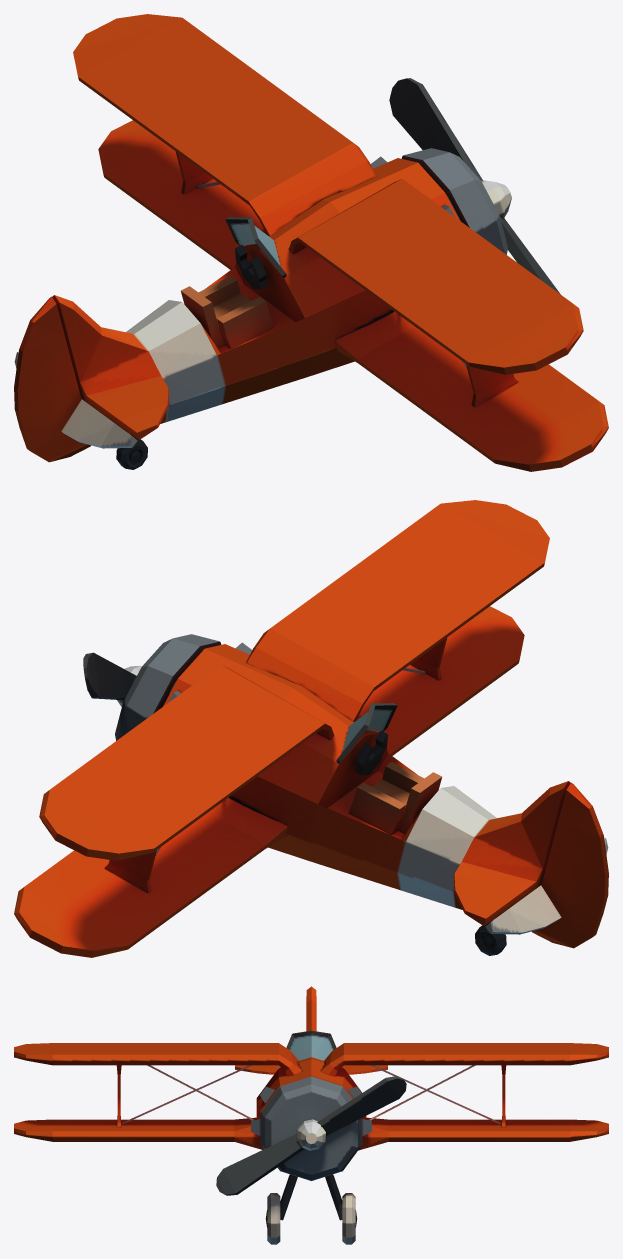
3 views of the same model, one above another, from view 1: azimuth 30°, elevation 25°; view 2: azimuth 150°, elevation 25°; view 3: azimuth 270°, elevation 25° (orthographic). The views are drawn at different scales.
Visible parts, largest first — view 1: node-0; view 2: node-0; view 3: node-0.
Part boxes in pixels (left/top/right/bottom): node-0: left=14, top=14, right=608, bottom=471; node-0: left=14, top=500, right=608, bottom=957; node-0: left=14, top=986, right=608, bottom=1244.
Size of the model in its own units: 2.43 by 1.21 by 3.78.
1 material, 1 textured.
